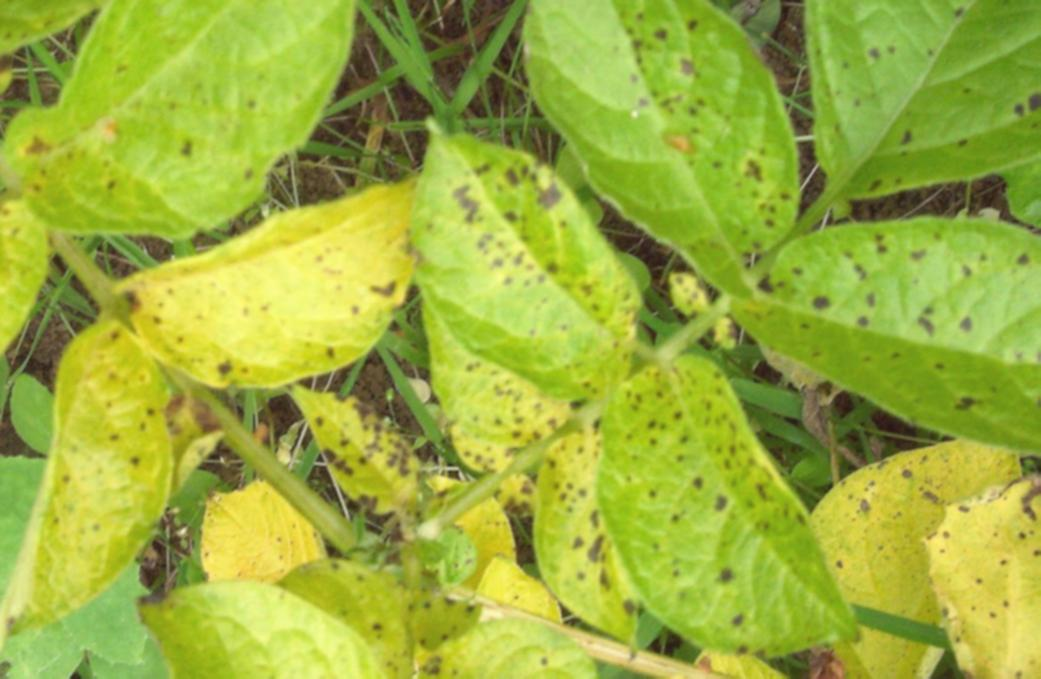Tomato Septoria leaf spot: (582, 293, 838, 679), (5, 0, 381, 244), (504, 0, 788, 322), (747, 209, 1041, 461), (420, 112, 645, 422), (132, 183, 446, 390), (0, 295, 182, 643), (919, 477, 1041, 679), (280, 382, 447, 528)
